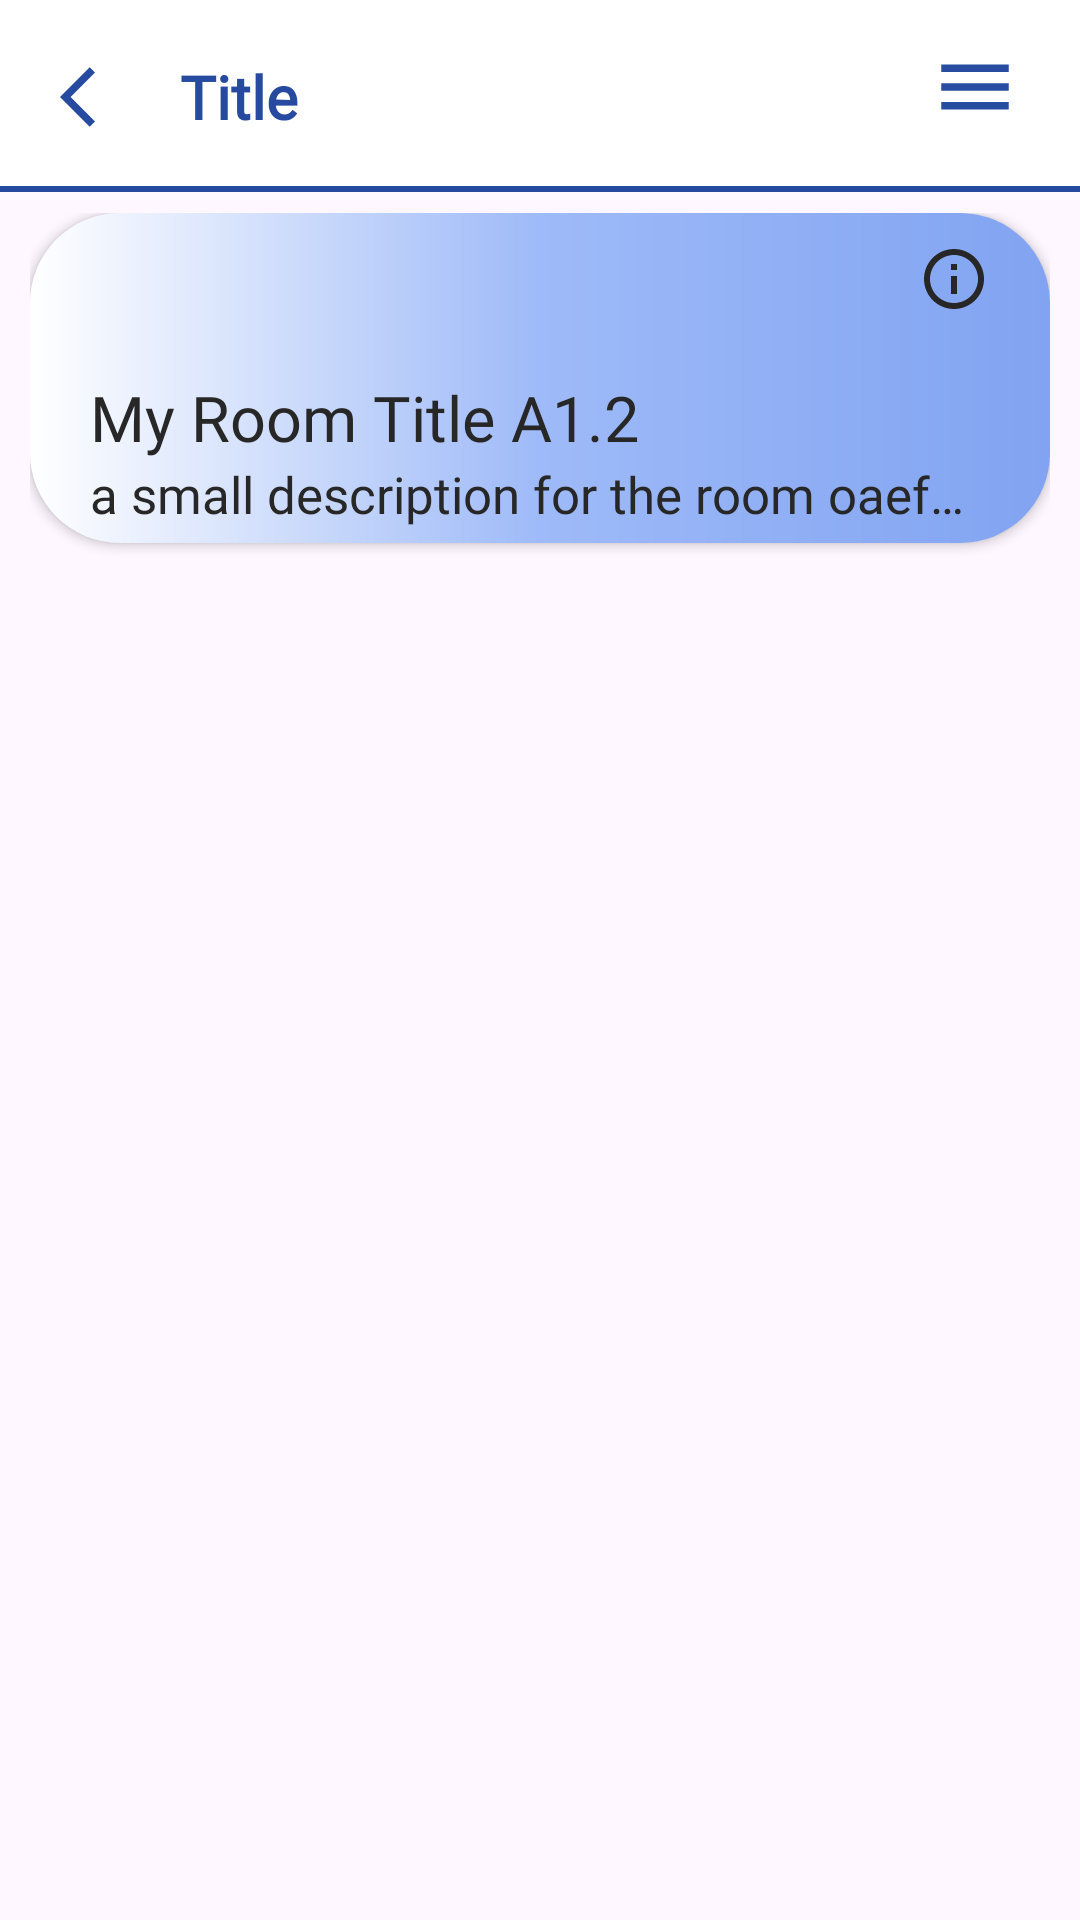

Locate icon controls on the screen. Image size 1080 x 1920, boxes as (x1, y1, x2, y2).
arrow back: (60, 67, 95, 127)
info: (924, 249, 984, 309)
menu: (941, 64, 1009, 110)
